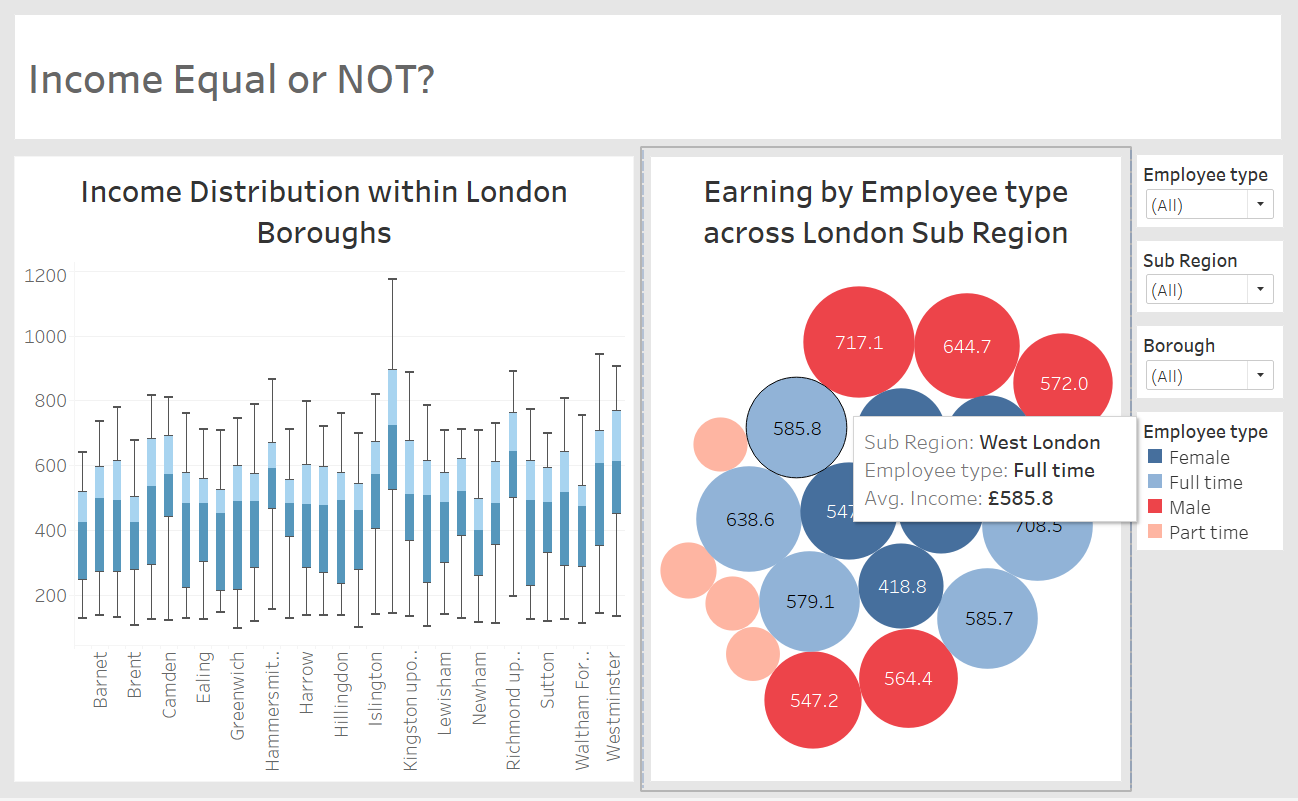

The page's visual inventory and layout, read from the dashboard file:
{"tool":"tableau","page":{"name":"Dashboard 5","canvas":[1300,800],"ordinal":4},"visuals":[{"type":"text","box":[8,8,1284,142]},{"type":"worksheet","title":"Inc. Distr","mark":"Automatic","rows":["Pay (£)"],"cols":["Borough"],"box":[8,150,636,642]},{"type":"worksheet","title":"Bubbles","mark":"Circle","box":[644,150,488,642]},{"type":"filter","title":"Inc. Distr","param":"[federated.0mtfeyj0am8fze13vt68h0kjogjt].[none:Table Name:nk]","box":[1132,150,160,86]},{"type":"filter","title":"Inc. Distr","param":"[federated.0mtfeyj0am8fze13vt68h0kjogjt].[Borough (group)]","box":[1132,236,160,85]},{"type":"filter","title":"Inc. Distr","param":"[federated.0mtfeyj0am8fze13vt68h0kjogjt].[none:Borough:nk]","box":[1132,321,160,86]},{"type":"legend","title":"Bubbles","param":"[federated.0mtfeyj0am8fze13vt68h0kjogjt].[none:Table Name:nk]","box":[1132,407,160,152]}]}

Visuals, with their boxes in screenshot pixels (x1, y1, x2, y2), scaled from the page's 1300x800 canvas onto the 1298x801 screenshot:
text: box(8, 8, 1290, 150)
"Inc. Distr" worksheet: box(8, 150, 643, 793)
"Bubbles" worksheet (Circle marks): box(643, 150, 1130, 793)
"Inc. Distr" filter: box(1130, 150, 1290, 236)
"Inc. Distr" filter: box(1130, 236, 1290, 321)
"Inc. Distr" filter: box(1130, 321, 1290, 408)
"Bubbles" legend: box(1130, 408, 1290, 560)
